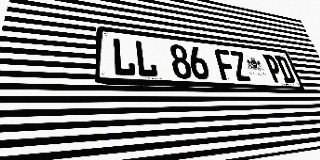6: (187, 46, 211, 80)
8: (169, 44, 193, 79)
D: (274, 55, 296, 83)
F: (214, 49, 237, 81)
L: (112, 37, 136, 77), (134, 40, 158, 78)
P: (262, 54, 285, 83)
Z: (229, 50, 252, 81)
